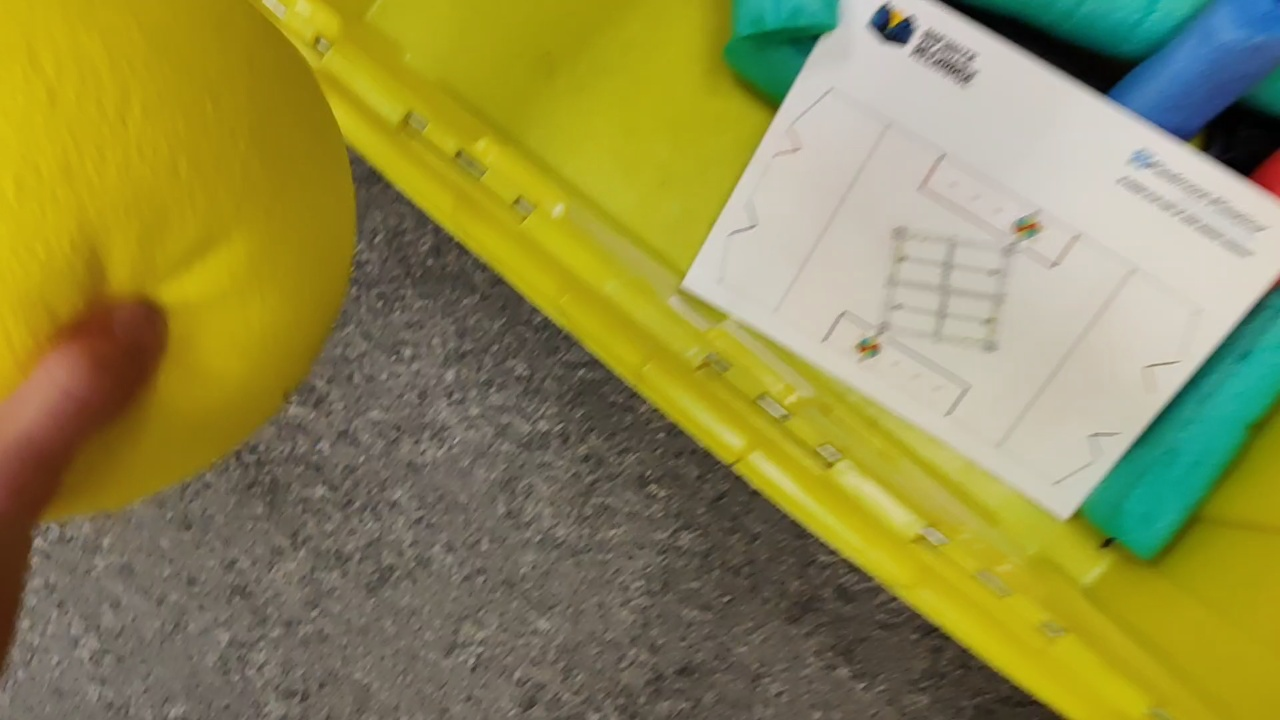Ball: (1, 2, 362, 529)
